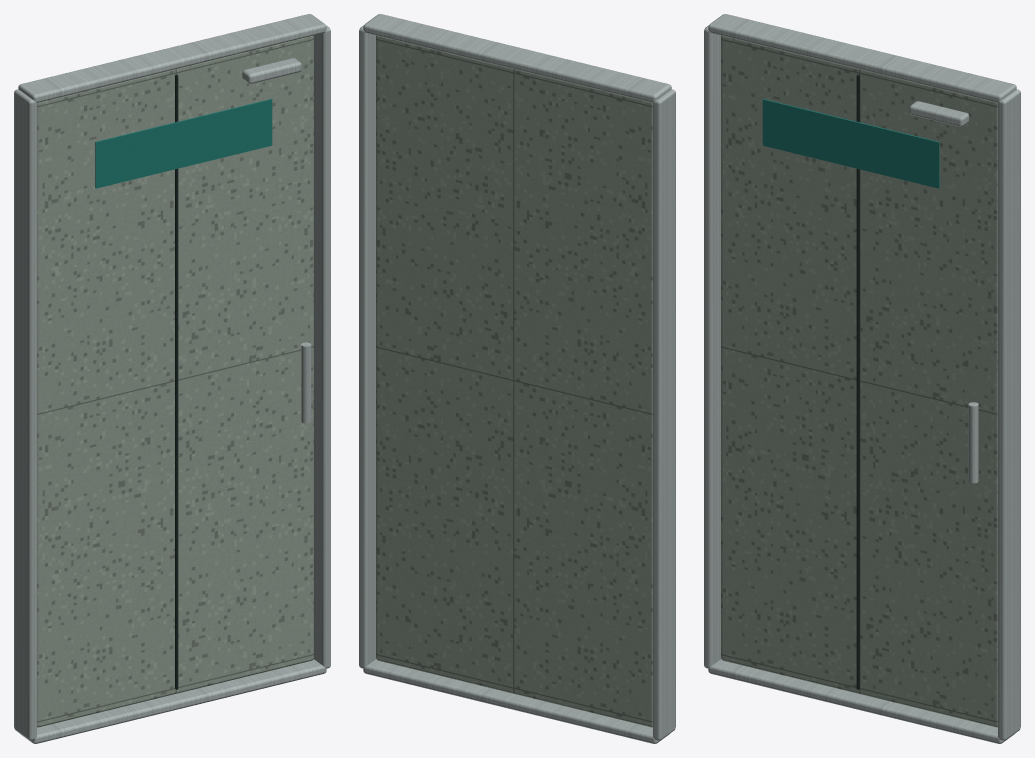
Rendered from detail-toilet-door-1.glb.
3 renders of one model, left to right at view 1: azimuth 30°, elevation 25°; view 2: azimuth 150°, elevation 25°; view 3: azimuth 330°, elevation 25°, orthographic.
Visible parts, largest first — view 1: door_panel, frame_side (×2), frame_rail (×2), label_room_sign, door_seam, closer, pull_handle; view 2: door_panel, frame_side (×2), frame_rail (×2); view 3: door_panel, frame_side (×2), frame_rail (×2), label_room_sign, door_seam, closer, pull_handle.
Boxes of the visible parts, x1,y1,x2,y2 form: door_panel: (37,35,313,727); frame_side (×2): (14,25,330,740); frame_rail (×2): (18,14,326,743); label_room_sign: (95,99,272,188); door_seam: (175,74,178,689); closer: (242,58,301,83); pull_handle: (301,342,311,423); door_panel: (376,35,652,727); frame_side (×2): (359,25,675,740); frame_rail (×2): (363,14,671,743); door_panel: (721,35,997,727); frame_side (×2): (704,25,1020,740); frame_rail (×2): (708,14,1016,743); label_room_sign: (762,99,939,188); door_seam: (856,74,859,689); closer: (909,101,969,126); pull_handle: (968,402,978,483).
Bounding box in the file's own units: 1.24 × 2.54 × 0.17.
Materials: 4 (4 with a texture image).
